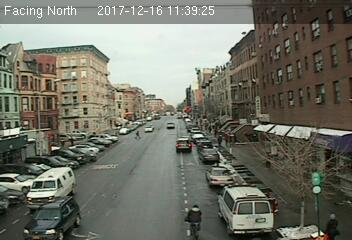bicycle: (182, 200, 207, 240)
car: (20, 195, 81, 240), (205, 164, 233, 187), (199, 147, 218, 162), (175, 137, 194, 152)
police: (220, 182, 274, 236)
truck: (28, 166, 75, 210)
